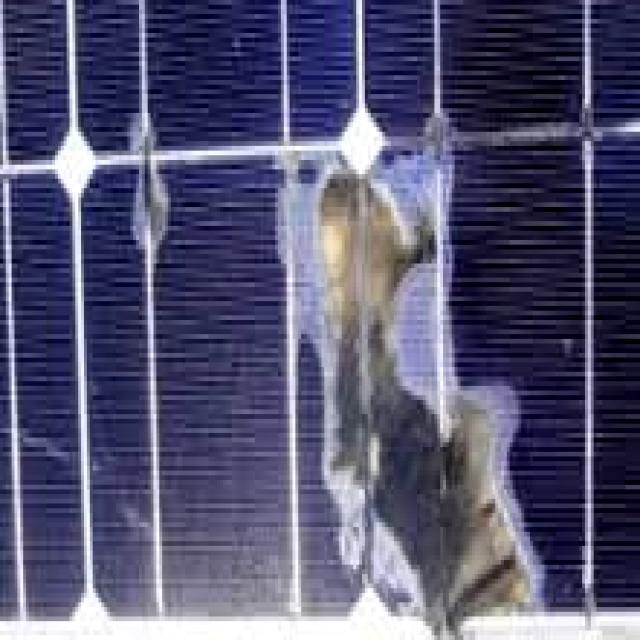shadow: (272, 108, 521, 640)
